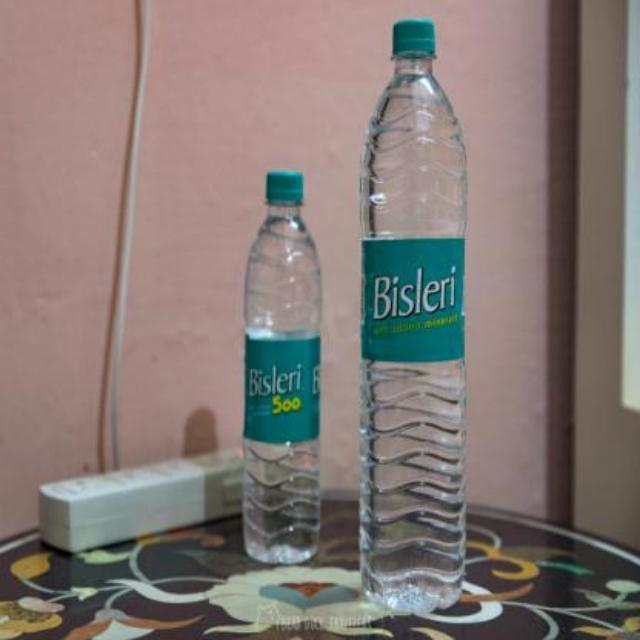bottle: (350, 9, 478, 627), (238, 160, 326, 568)
